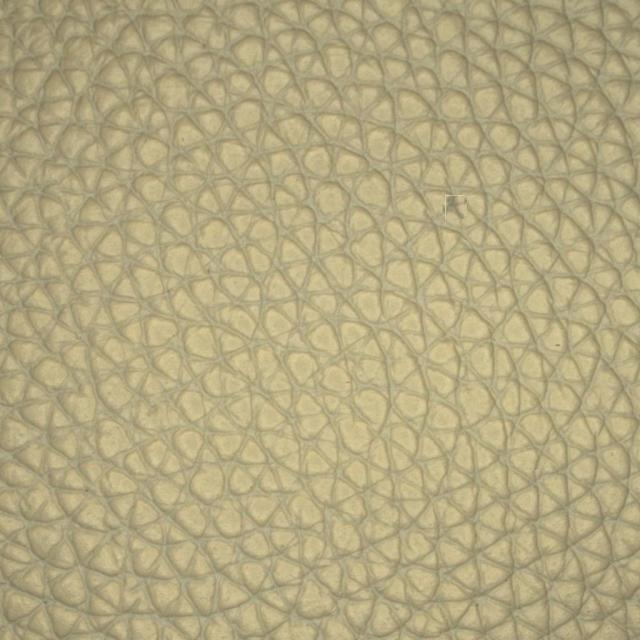pinhole: (394, 119, 518, 296)
